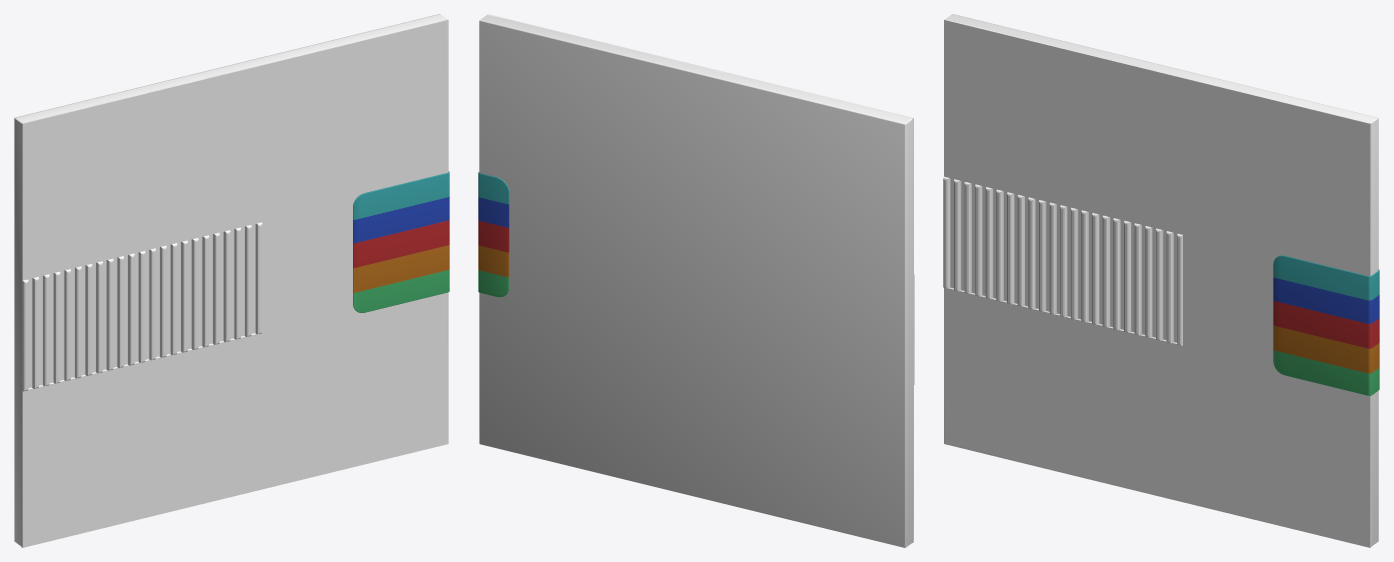
Rendered from Lily-Lotus-3D.gltf.
3 renders of one model, left to right at view 1: azimuth 30°, elevation 25°; view 2: azimuth 150°, elevation 25°; view 3: azimuth 330°, elevation 25°, orthographic.
Parts seen in each view (by area): view 1: GLB-Top, GLB-Clip, GLB-Bottom; view 2: GLB-Bottom, GLB-Clip, GLB-Top; view 3: GLB-Top, GLB-Clip, GLB-Bottom.
Boxes of the visible parts, x1,y1,x2,y2 form: GLB-Top: [21, 19, 448, 547]; GLB-Clip: [353, 171, 449, 312]; GLB-Bottom: [14, 14, 447, 546]; GLB-Bottom: [479, 15, 913, 547]; GLB-Clip: [478, 172, 509, 297]; GLB-Top: [487, 14, 914, 542]; GLB-Top: [943, 19, 1371, 547]; GLB-Clip: [1273, 255, 1379, 395]; GLB-Bottom: [944, 14, 1378, 546].
Size of the model in its own units: 10.72 by 10.16 by 0.4714.
7 materials, 3 textured.
